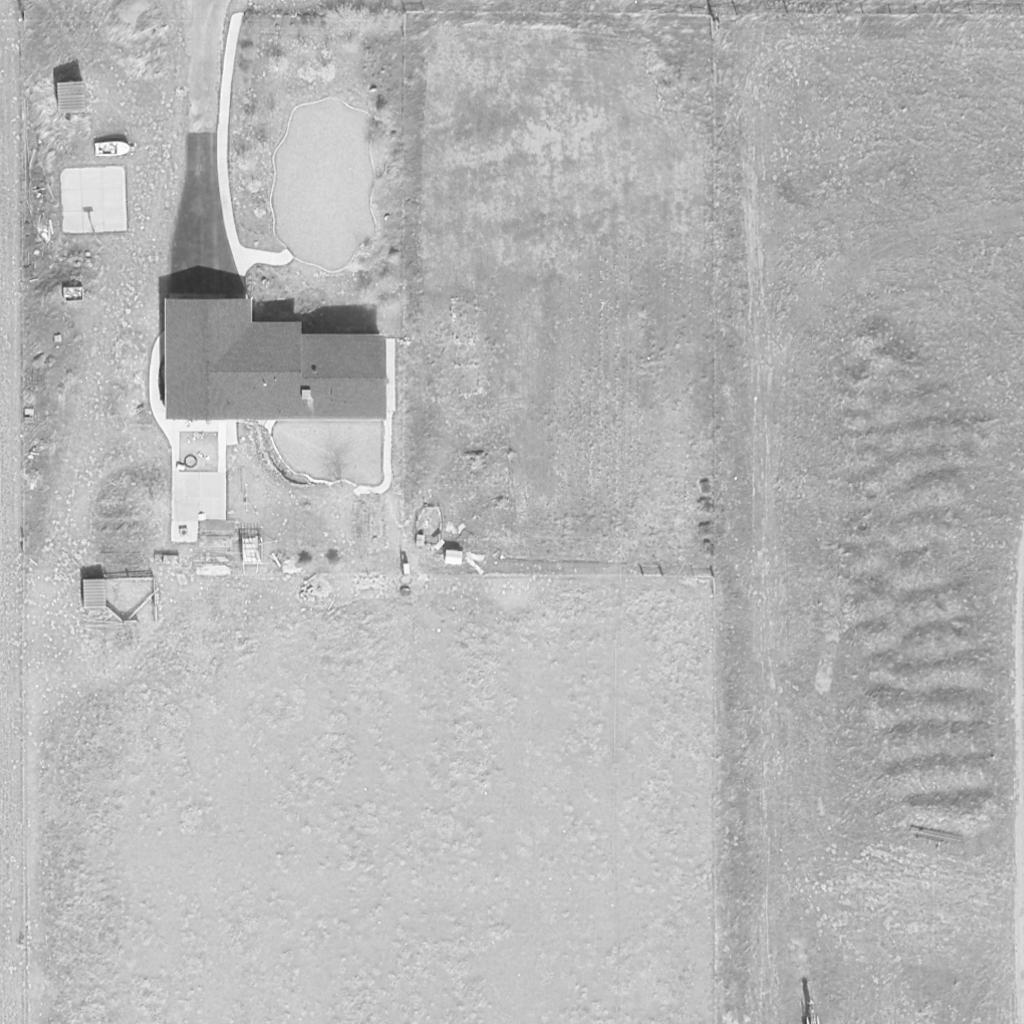vehicle: (94, 143, 130, 157)
